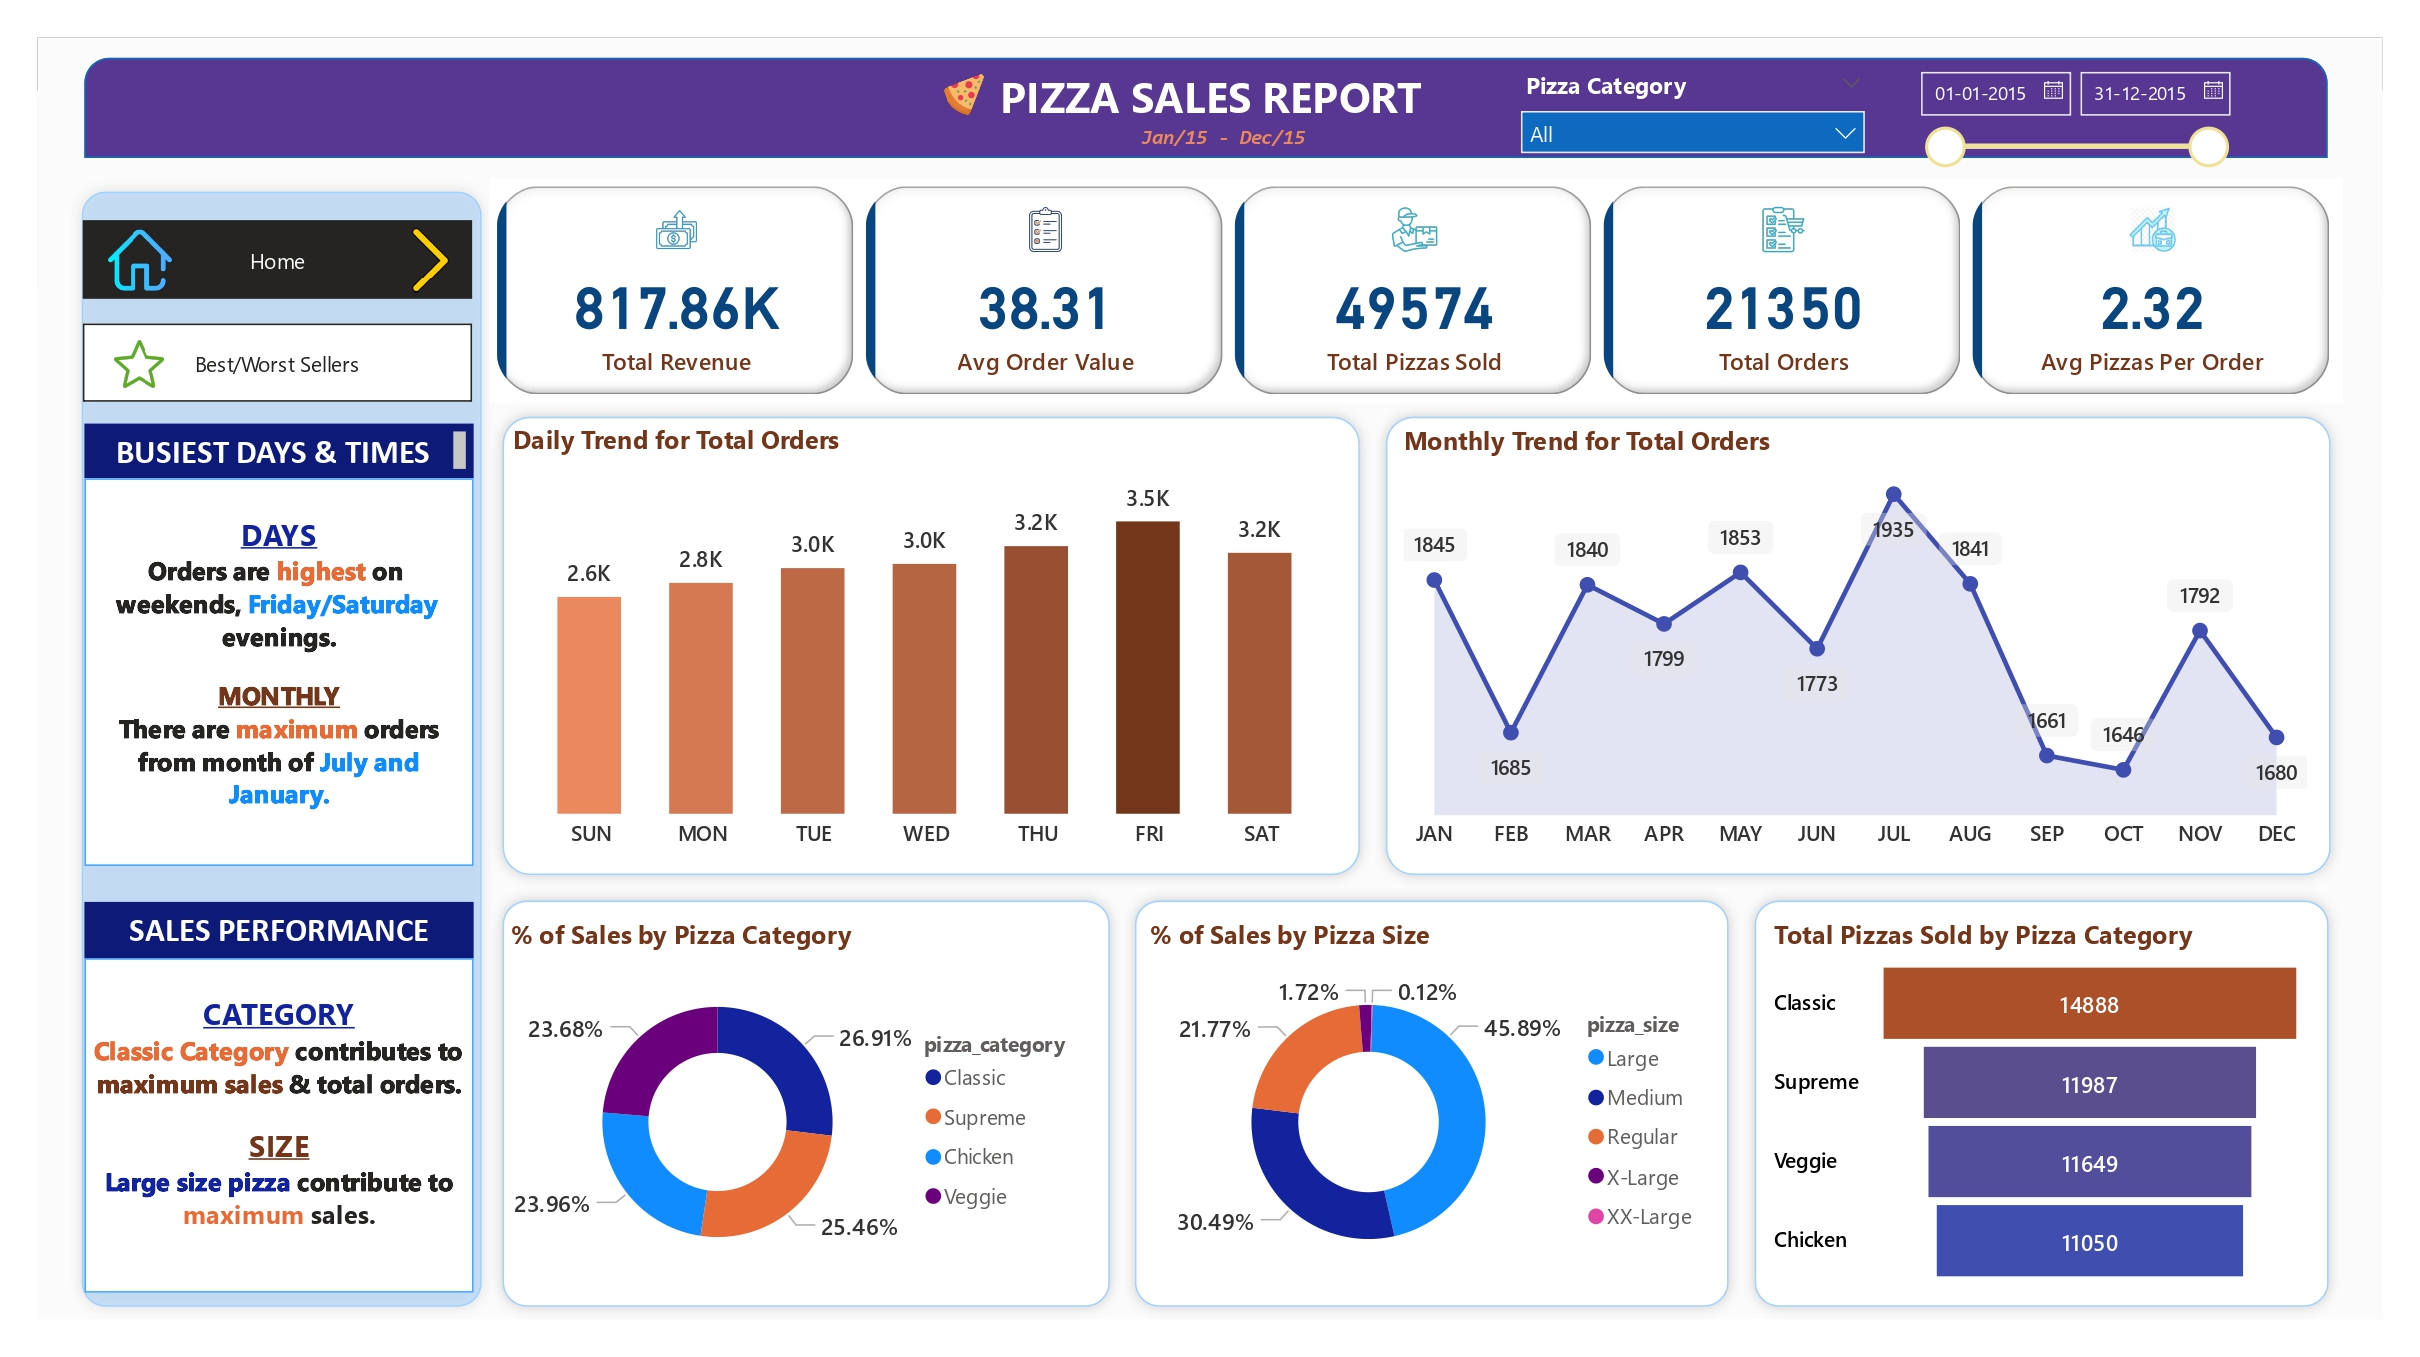

What the dashboard file says about the page in this screenshot:
{"tool":"powerbi","page":{"name":"Home","canvas":[1500,820],"ordinal":0},"visuals":[{"type":"shape","box":[20.4,89.9,271.2,730.4],"z":0},{"type":"cardVisual","fields":{"Data":["pizza_sales.Total Revenue","pizza_sales.Avg Order Value","pizza_sales.Total Pizzas Sold","pizza_sales.Total Orders","pizza_sales.Avg Pizzas Per Order"]},"box":[288.7,90.1,1185.9,143.7],"z":1000},{"type":"shape","box":[29.6,12.7,1435.2,64.8],"z":2000},{"type":"textbox","box":[608.5,12.7,284.5,47.9],"z":3000},{"type":"textbox","box":[693,49.3,131,28.2],"z":4000},{"type":"image","box":[564.8,18.3,54.9,36.6],"z":5000},{"type":"shape","box":[288.7,233.8,565,310],"z":6000},{"type":"columnChart","title":"Daily Trend for Total Orders","fields":{"Category":["pizza_sales.Order Day"],"Y":["pizza_sales.Total Orders"]},"box":[298.6,246.5,539.4,283.1],"z":7000},{"type":"shape","box":[853.5,233.8,621.1,309.9],"z":8000},{"type":"areaChart","title":"Monthly Trend for Total Orders","fields":{"Y":["pizza_sales.Total Orders"],"Category":["pizza_sales.Order Month"]},"box":[869.4,246.6,587.3,283.4],"z":9000},{"type":"shape","box":[288.9,543.7,404.7,276.6],"z":10000},{"type":"shape","box":[693.6,543.7,396.5,276.6],"z":11000},{"type":"shape","box":[1090.1,543.7,384.3,276.6],"z":12000},{"type":"textbox","box":[30,246.6,249.4,35.4],"z":13000},{"type":"donutChart","title":"% of Sales by Pizza Category","fields":{"Category":["pizza_sales.pizza_category"],"Y":["pizza_sales.Total Revenue"]},"box":[298.4,562.8,382.9,239.8],"z":14000},{"type":"donutChart","title":"% of Sales by Pizza Size","fields":{"Y":["pizza_sales.Total Revenue"],"Category":["pizza_sales.pizza_size"]},"box":[707.2,562.8,369.3,239.8],"z":15000},{"type":"funnel","title":"Total Pizzas Sold by Pizza Category","fields":{"Category":["pizza_sales.pizza_category"],"Y":["pizza_sales.Total Pizzas Sold"]},"box":[1106.5,562.8,348.8,239.8],"z":16000},{"type":"textbox","box":[30,588.7,249.4,213.9],"z":17000},{"type":"textbox","box":[30,553.2,249.4,35.4],"z":18000},{"type":"textbox","box":[30,282.1,249.4,248],"z":19000},{"type":"slicer","fields":{"Values":["pizza_sales.pizza_category"]},"box":[938.9,15,239.8,60],"z":20000},{"type":"slicer","fields":{"Values":["pizza_sales.order_date"]},"box":[1192.3,12.3,218,77.7],"z":21000},{"type":"pageNavigator","box":[28.6,117.2,249.4,50.4],"z":21001},{"type":"pageNavigator","box":[28.6,182.6,249.4,50.4],"z":21002},{"type":"image","box":[224.8,117.2,53.1,50.4],"z":21003},{"type":"image","box":[30,117.2,70.9,50.4],"z":21004},{"type":"image","box":[43.6,178.5,42.2,60],"z":21005}]}

Visuals, with their boxes in screenshot pixels (x1, y1, x2, y2):
shape: x1=69 y1=178 x2=493 y2=1319
cardVisual - pizza_sales.Total Revenue x pizza_sales.Avg Order Value: x1=489 y1=178 x2=2343 y2=403
shape: x1=84 y1=57 x2=2327 y2=159
textbox: x1=989 y1=57 x2=1434 y2=132
textbox: x1=1121 y1=115 x2=1326 y2=159
image: x1=920 y1=66 x2=1006 y2=123
shape: x1=489 y1=403 x2=1372 y2=888
"Daily Trend for Total Orders" columnChart: x1=504 y1=423 x2=1348 y2=865
shape: x1=1372 y1=403 x2=2343 y2=888
"Monthly Trend for Total Orders" areaChart: x1=1397 y1=423 x2=2315 y2=866
shape: x1=489 y1=888 x2=1122 y2=1319
shape: x1=1122 y1=888 x2=1742 y2=1319
shape: x1=1742 y1=888 x2=2342 y2=1319
textbox: x1=84 y1=423 x2=474 y2=478
"% of Sales by Pizza Category" donutChart: x1=504 y1=917 x2=1103 y2=1292
"% of Sales by Pizza Size" donutChart: x1=1143 y1=917 x2=1720 y2=1292
"Total Pizzas Sold by Pizza Category" funnel: x1=1767 y1=917 x2=2313 y2=1292
textbox: x1=84 y1=958 x2=474 y2=1292
textbox: x1=84 y1=902 x2=474 y2=958
textbox: x1=84 y1=479 x2=474 y2=866
slicer - pizza_sales.pizza_category: x1=1505 y1=61 x2=1880 y2=155
slicer - pizza_sales.order_date: x1=1901 y1=57 x2=2242 y2=178
pageNavigator: x1=82 y1=221 x2=472 y2=300
pageNavigator: x1=82 y1=323 x2=472 y2=402
image: x1=389 y1=221 x2=472 y2=300
image: x1=84 y1=221 x2=195 y2=300
image: x1=106 y1=317 x2=172 y2=410
